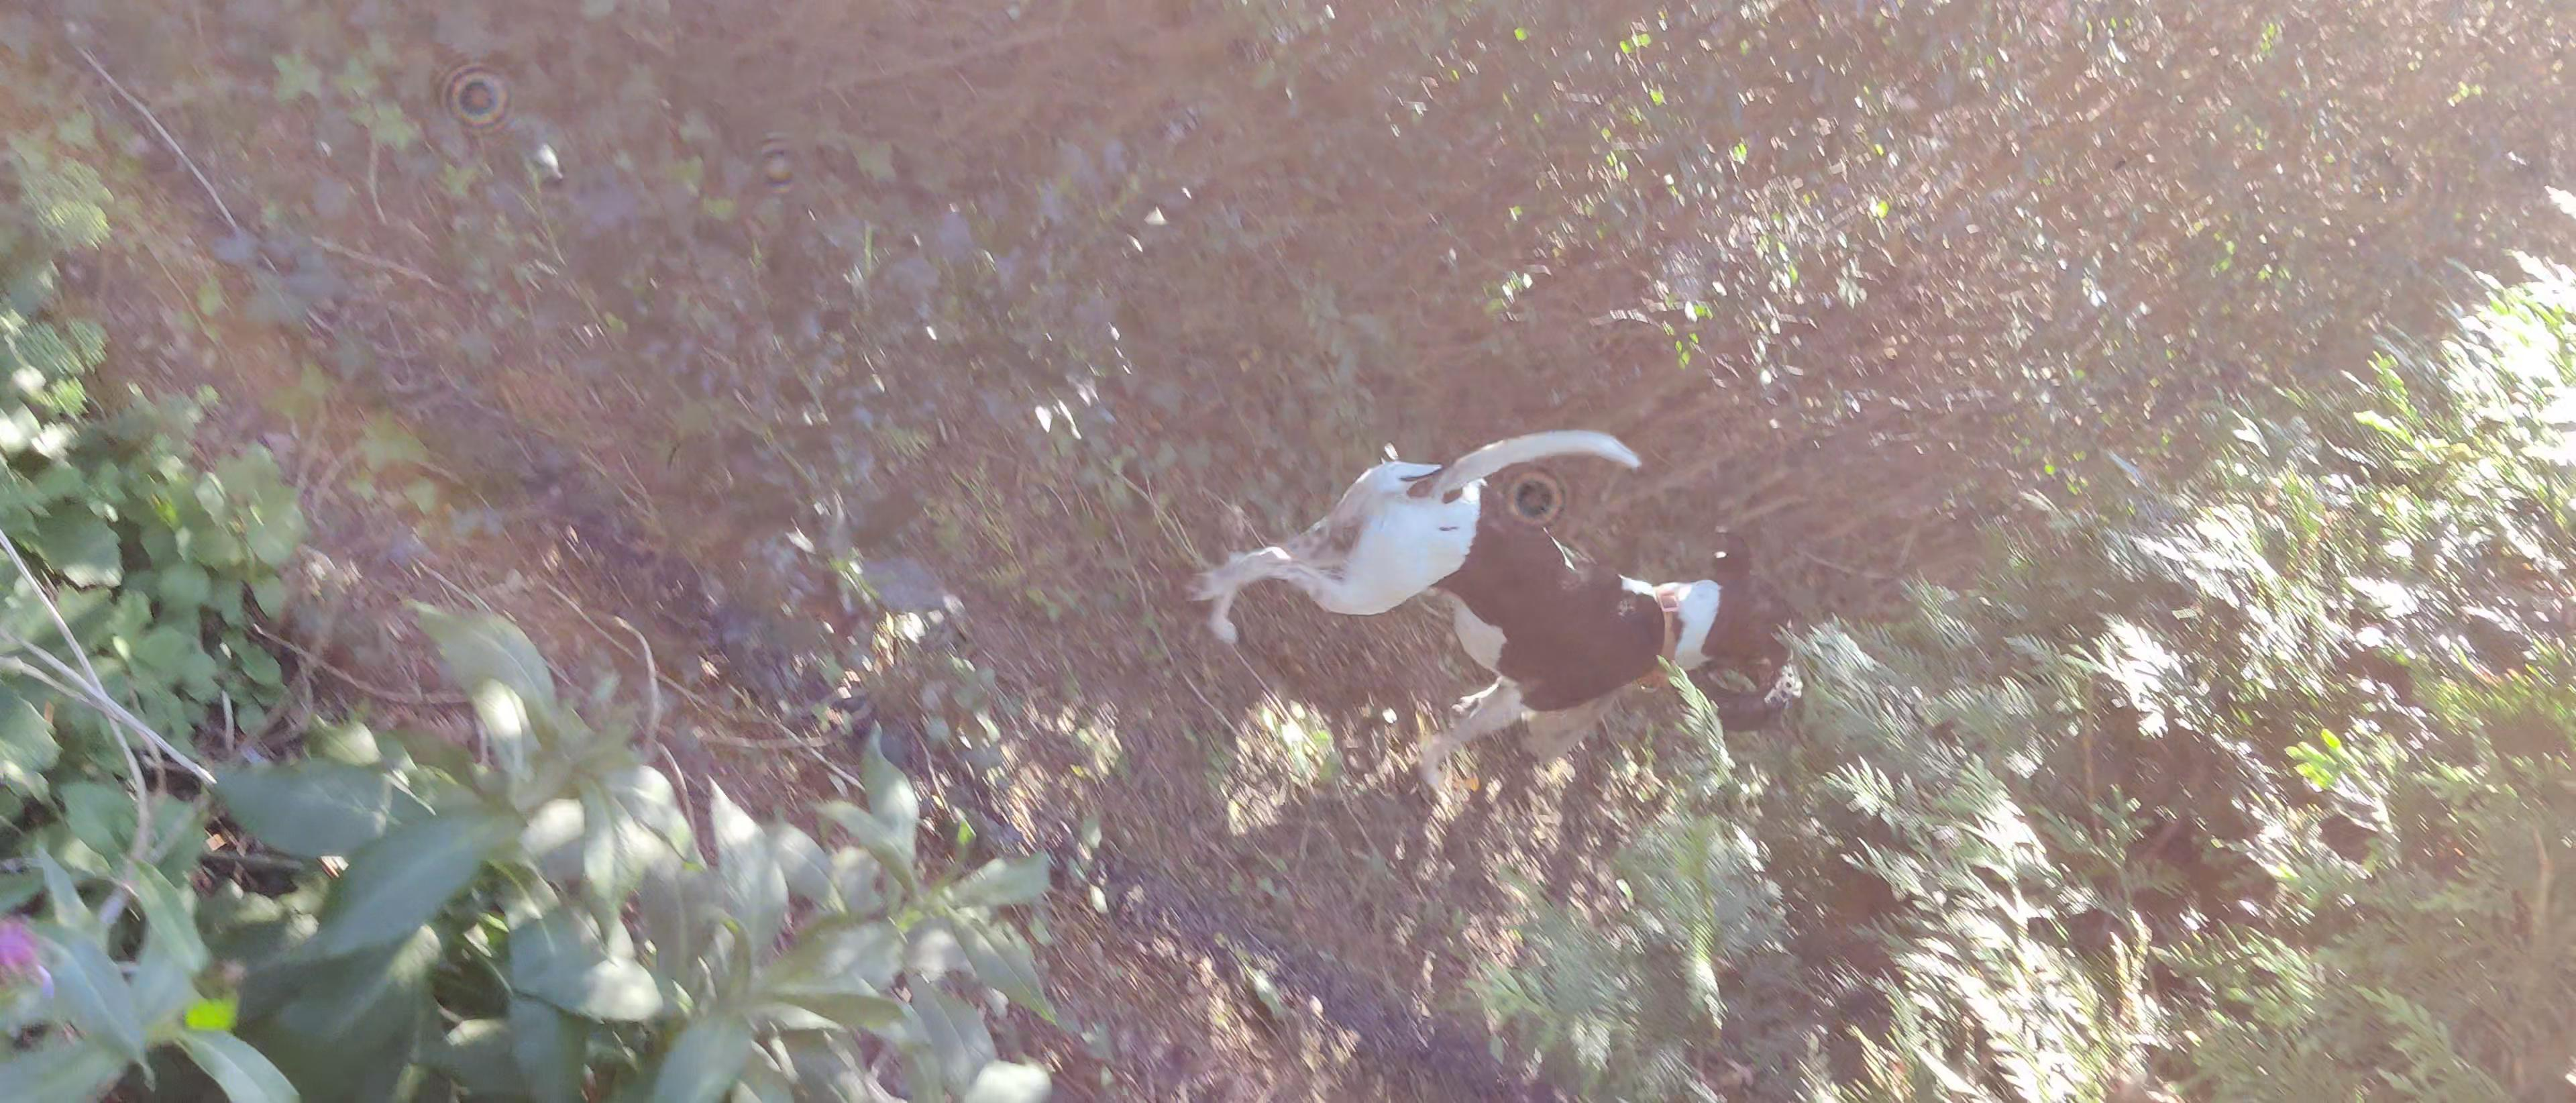Dog: (1171, 422, 1804, 782)
